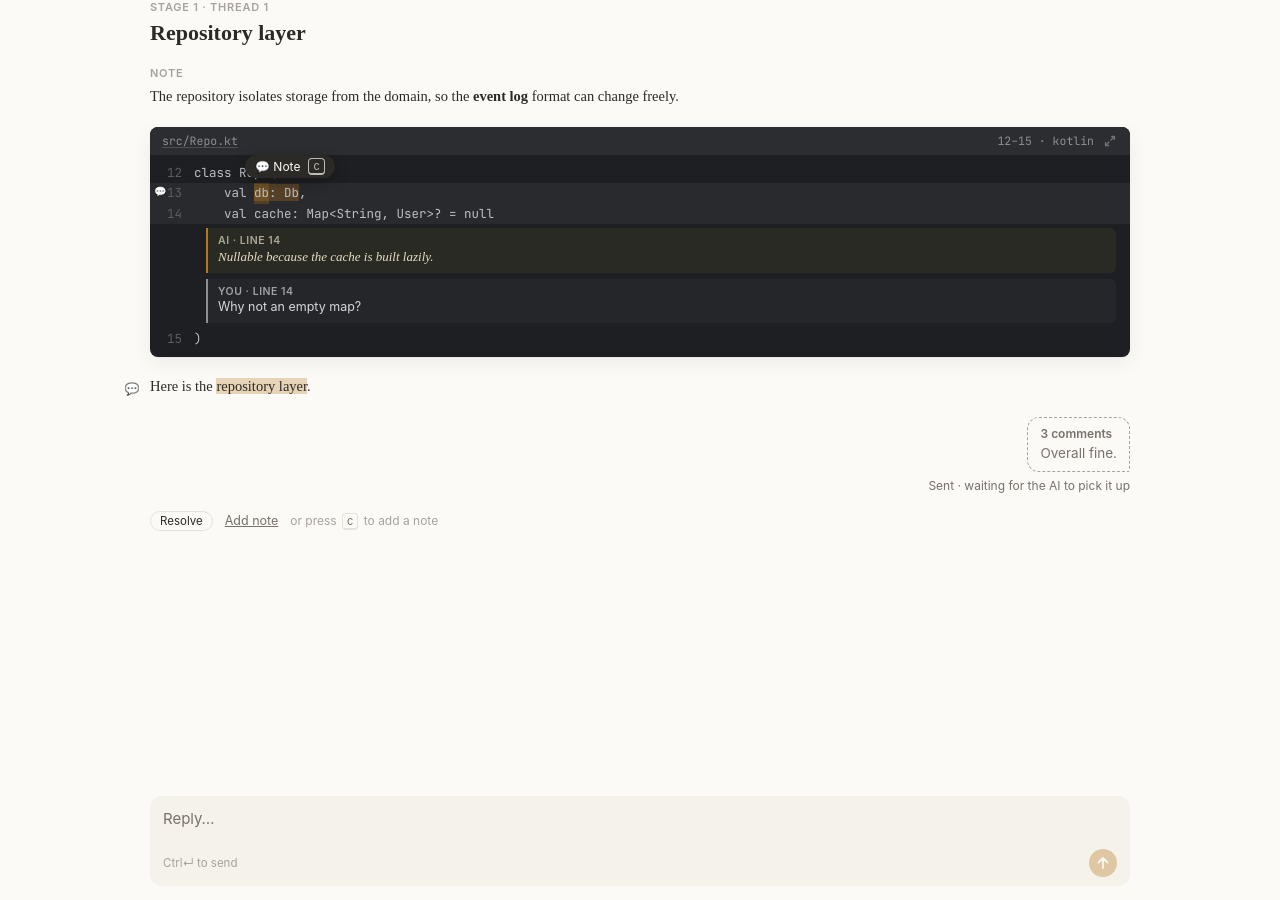
Test: TextNotes › cancels the editor with Escape and the pill with Escape
expect the text "Nullable because the cache is built lazily." is shown: met, box x1=218 y1=249 x2=434 y2=264
Click the button with aria-label "Add a note on the selection" at (290, 167), box x1=245 y1=155 x2=335 y2=178
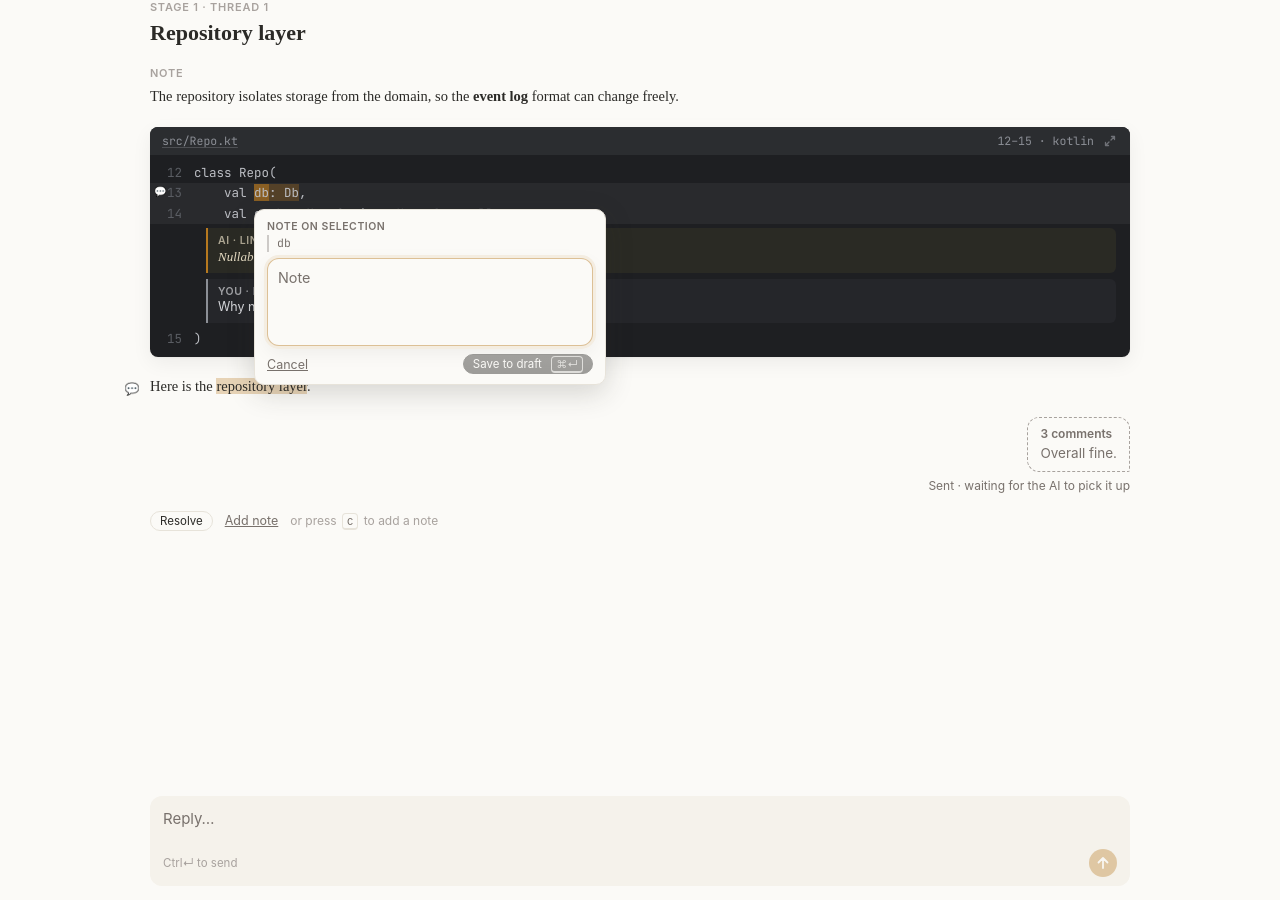
Press Escape
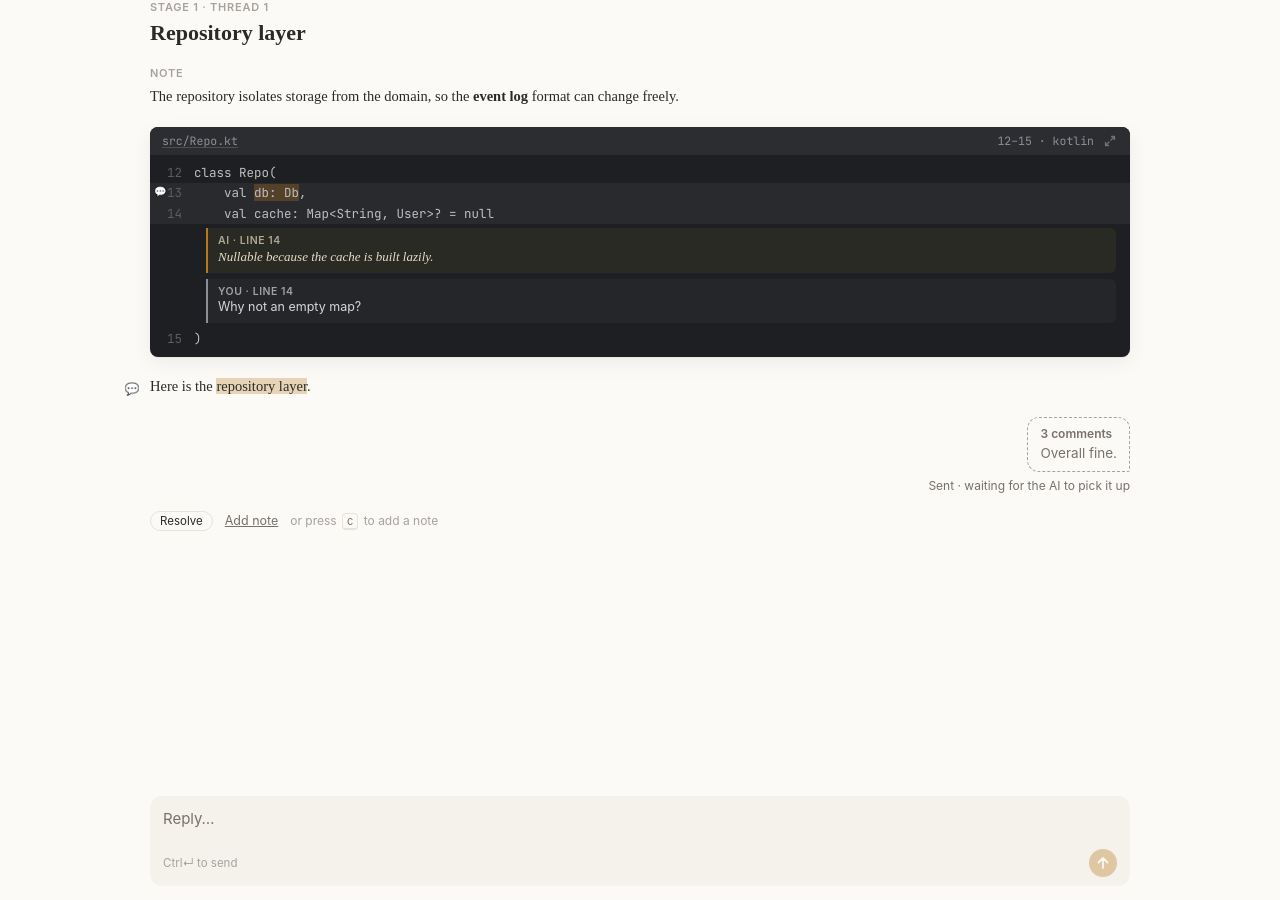
expect the dialog is gone: met
